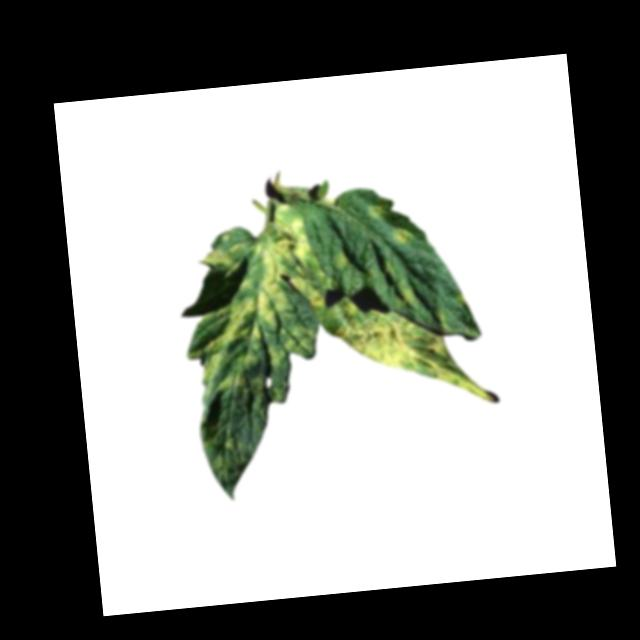Leaf_Mold: (172, 201, 333, 396), (330, 298, 512, 414), (198, 245, 235, 271), (329, 247, 351, 273), (390, 227, 417, 248), (365, 203, 383, 218)
